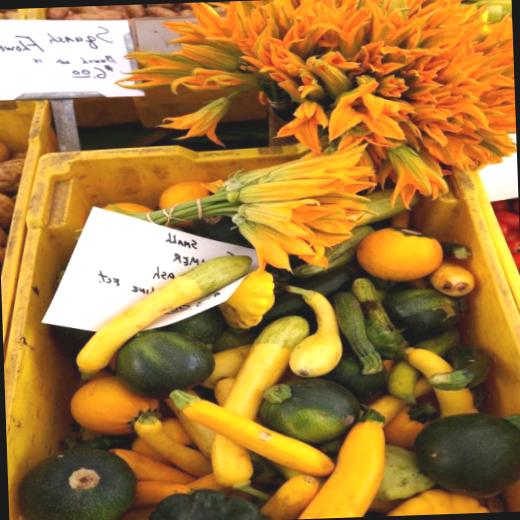Grape: (353, 226, 447, 282), (158, 182, 212, 206), (106, 201, 150, 213)
